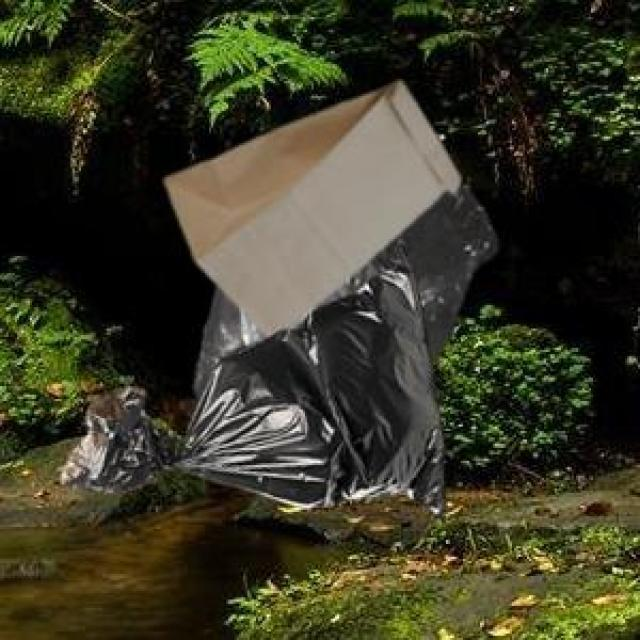miscellaneous trash: (58, 237, 441, 518)
paper: (160, 77, 457, 333)
